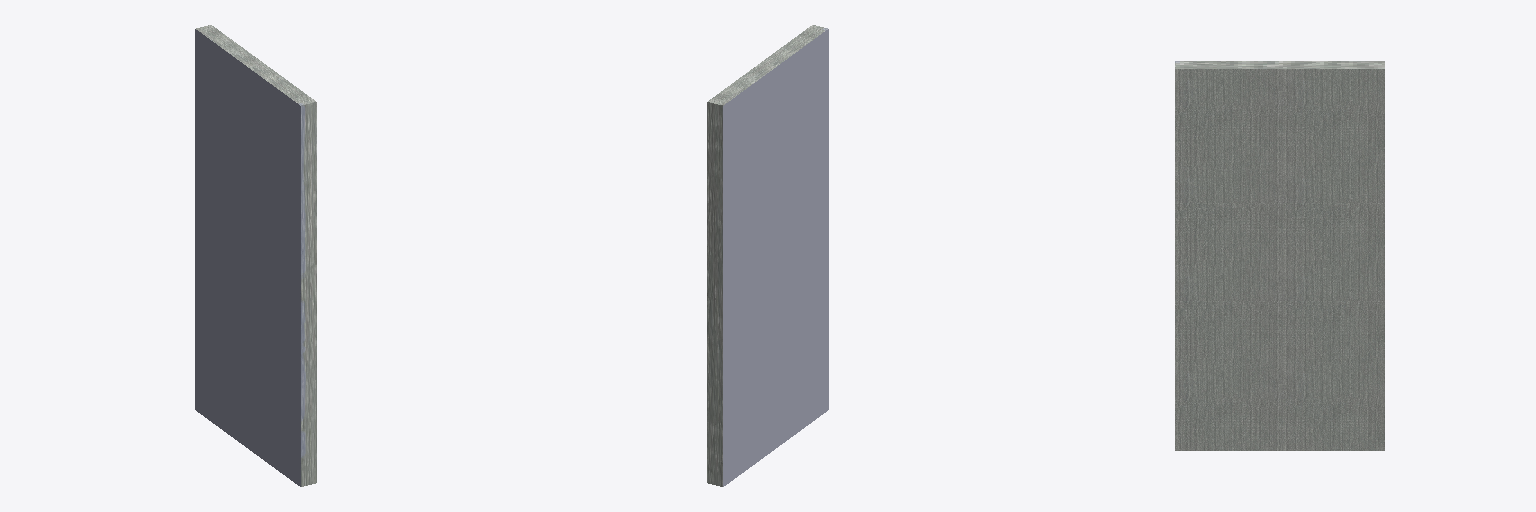
The picture shows the model from 3 angles: view 1: azimuth 30°, elevation 25°; view 2: azimuth 150°, elevation 25°; view 3: azimuth 270°, elevation 25°; orthographic projection.
Parts seen in each view (by area): view 1: Cube.077_Cube.092; view 2: Cube.077_Cube.092; view 3: Cube.077_Cube.092.
Boxes of the visible parts, <box> form: Cube.077_Cube.092: <box>195,25,316,486</box>; Cube.077_Cube.092: <box>707,25,828,486</box>; Cube.077_Cube.092: <box>1175,61,1384,450</box>.
Size of the model in its own units: 0.1768 by 4 by 2.
1 materials, 1 textured.